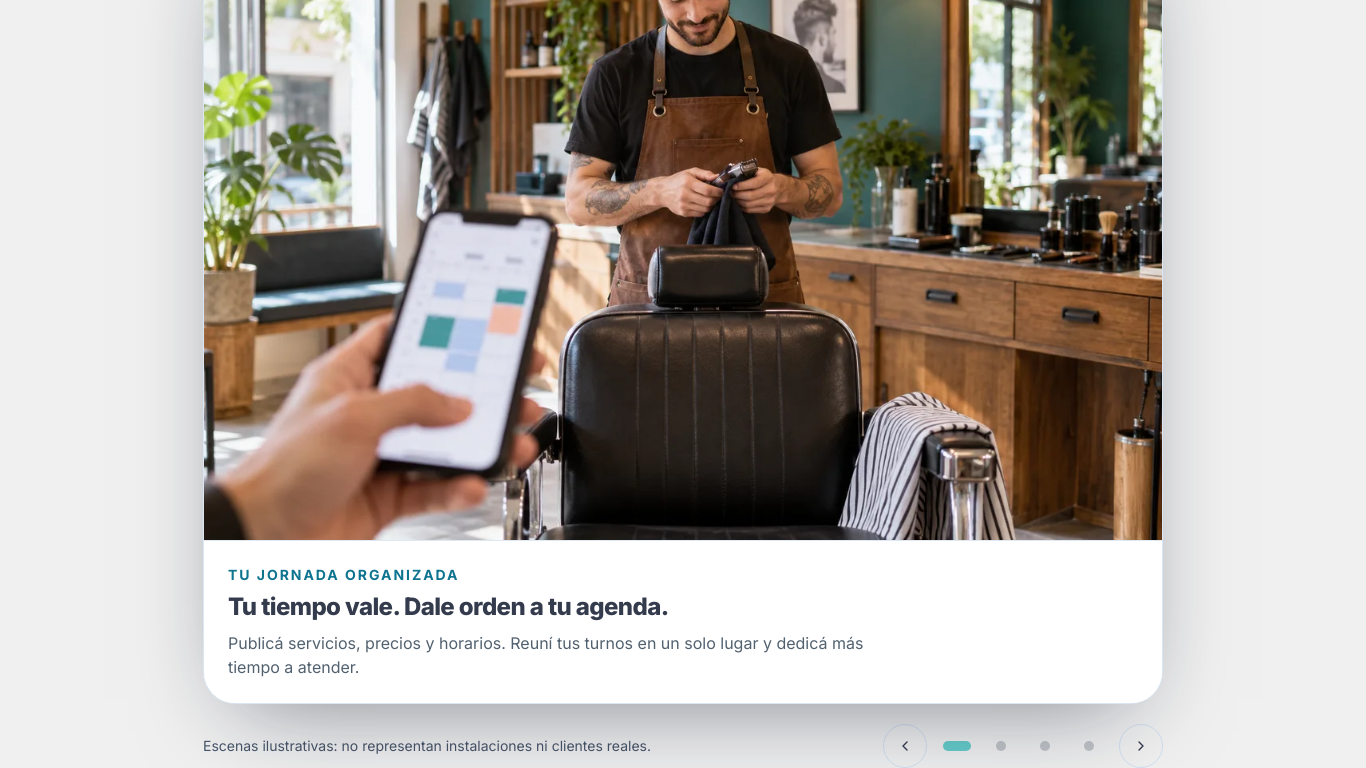
Scenario: BusinessCarousel › supports previous, next, dots and an explicit pause control
The width and height of the screenshot is (1366, 768).
(page scrolled)
Click the button named "ver ejemplo siguiente" at (1141, 746), box [1119,724,1163,767]
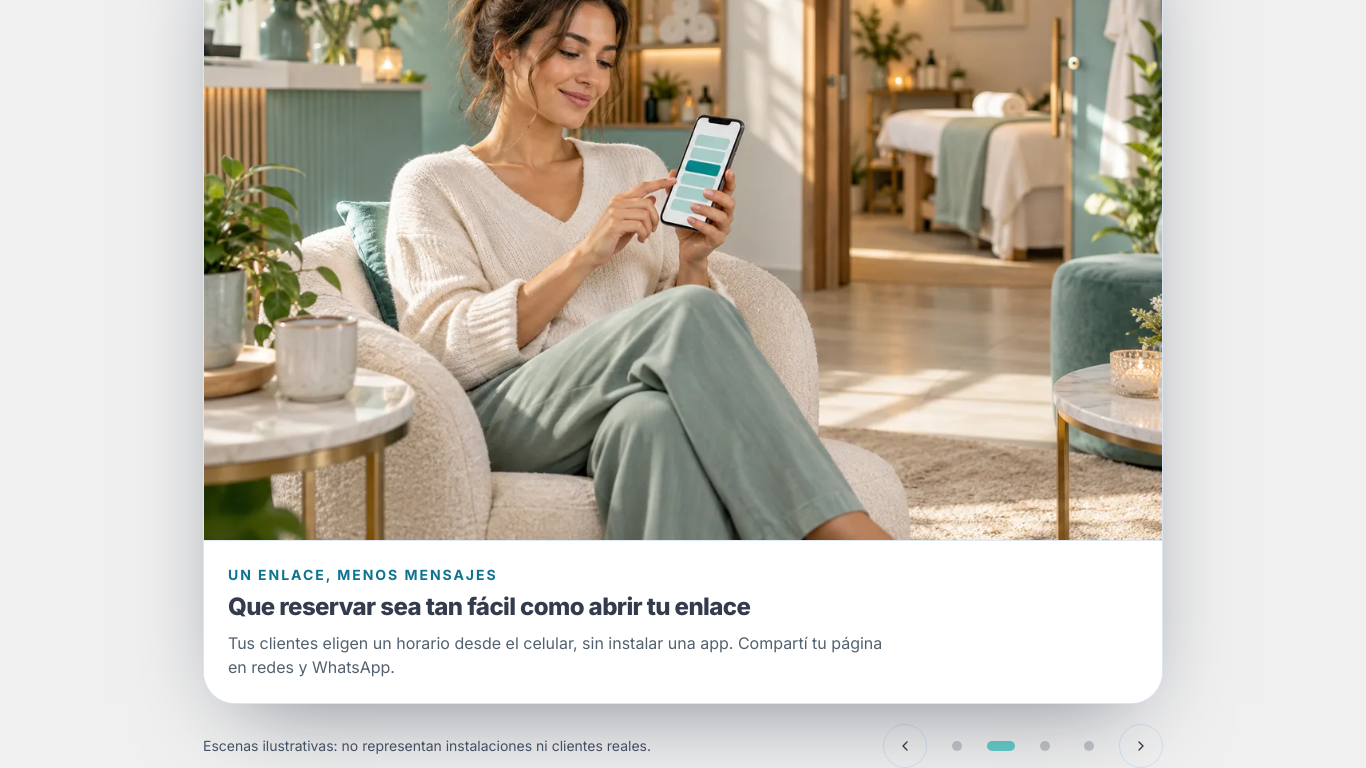
Click the button named "ver ejemplo 4: talleres" at (1089, 746), box [1067,724,1111,767]
(page scrolled)
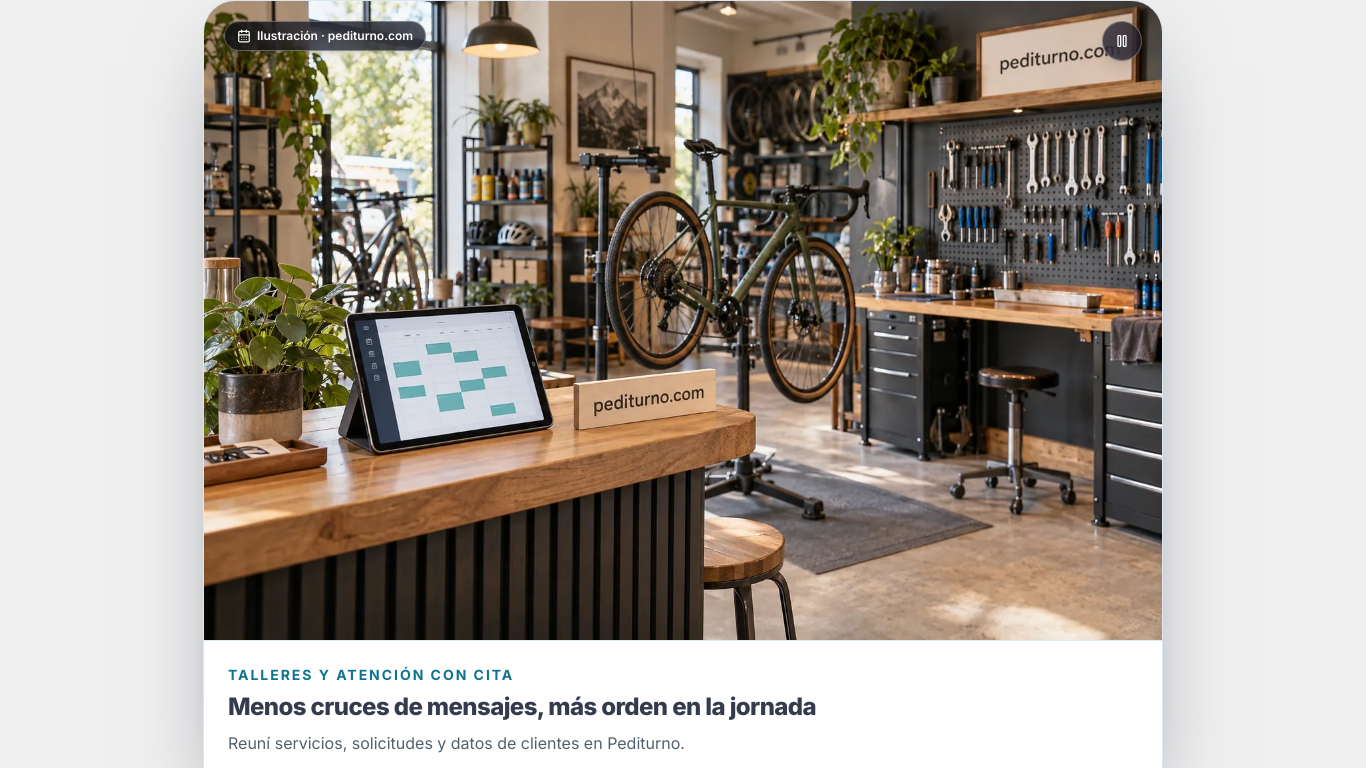
Click the button named "pausar recorrido automático" at (1122, 41), box [1102,21,1142,61]
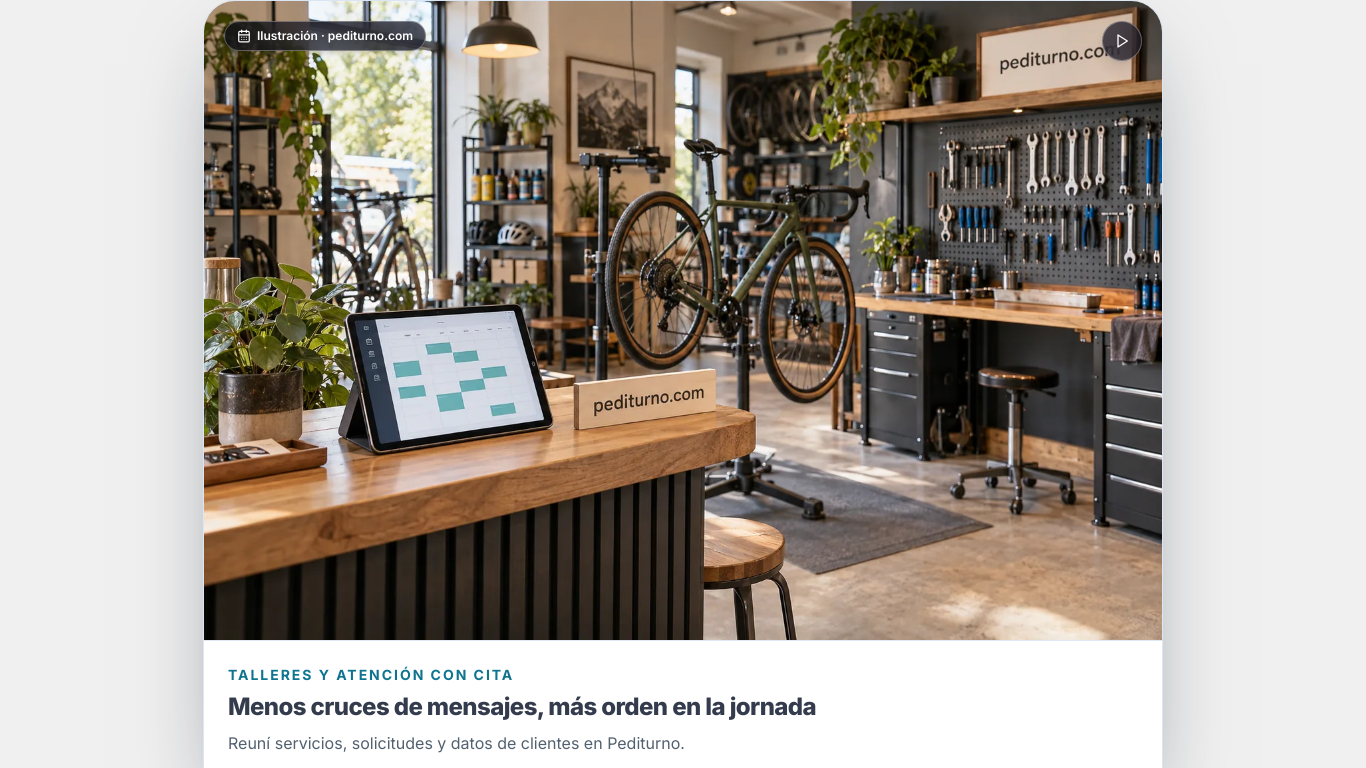
Check: the button named "reanudar recorrido automático" is shown, box [1102,21,1142,61]
